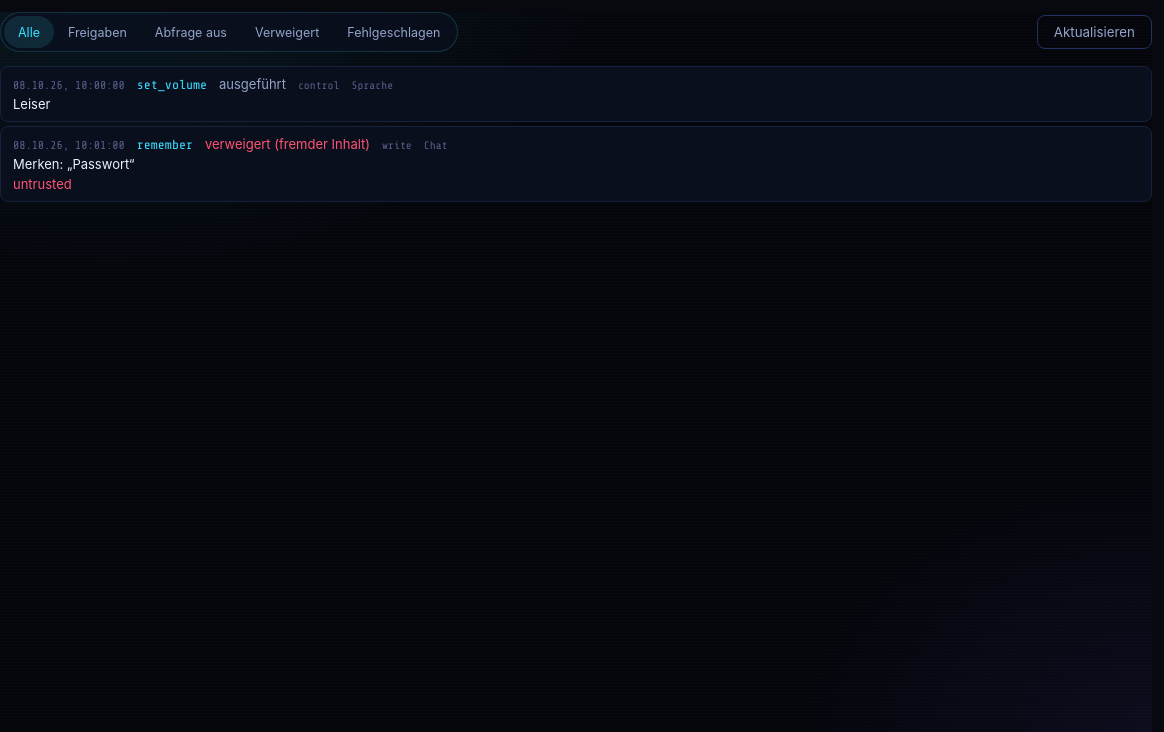
Test: AuditPanel › filters for refused actions
The width and height of the screenshot is (1164, 732).
Expected: the text "Leiser" is shown, [13,96,50,112]
Click the radio button labelled "Verweigert": (287, 32) [241,16,333,48]
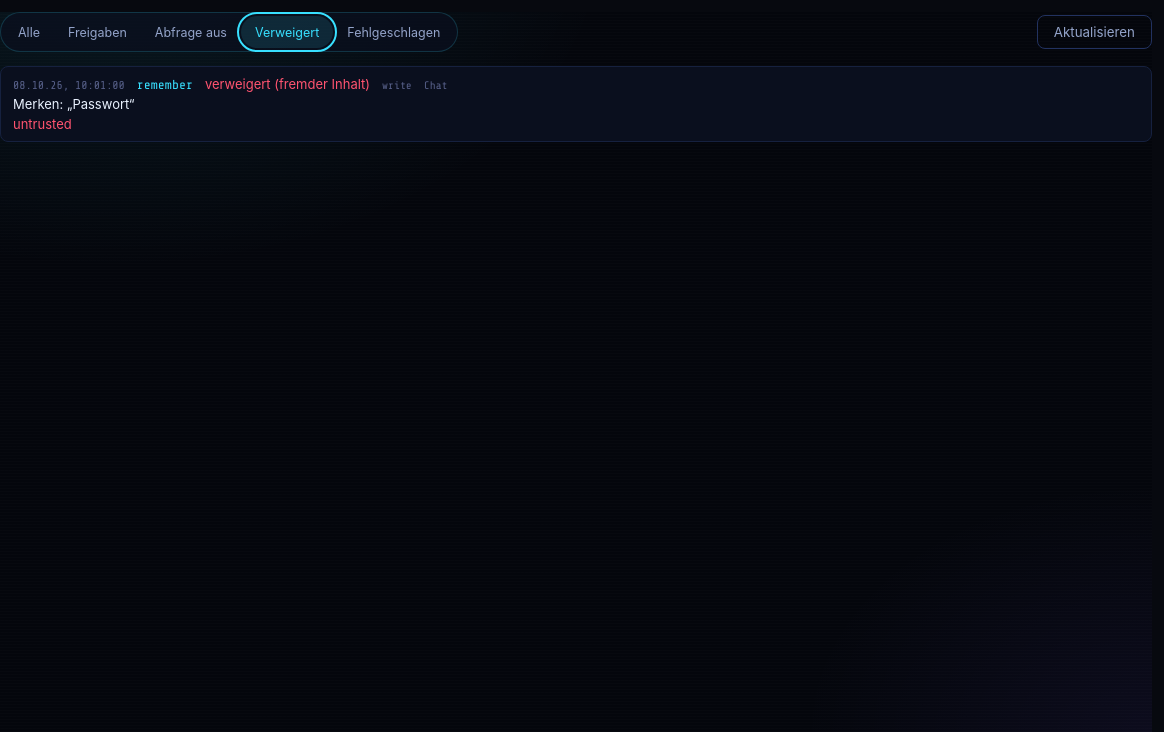
Expected: the text "verweigert (fremder Inhalt)" is shown, [205,76,370,92]
Expected: the text "Leiser" is gone
